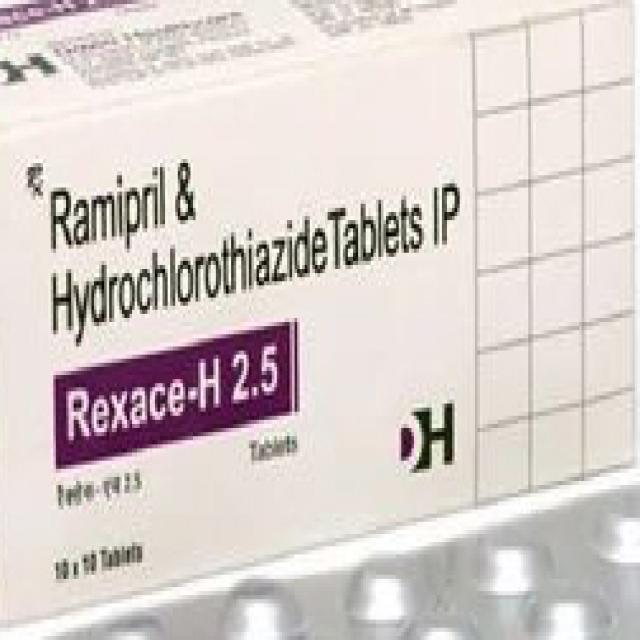drug-name: (62, 341, 282, 446)
